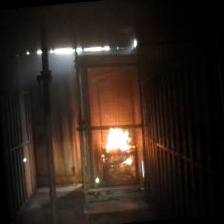fire: (103, 120, 138, 165)
